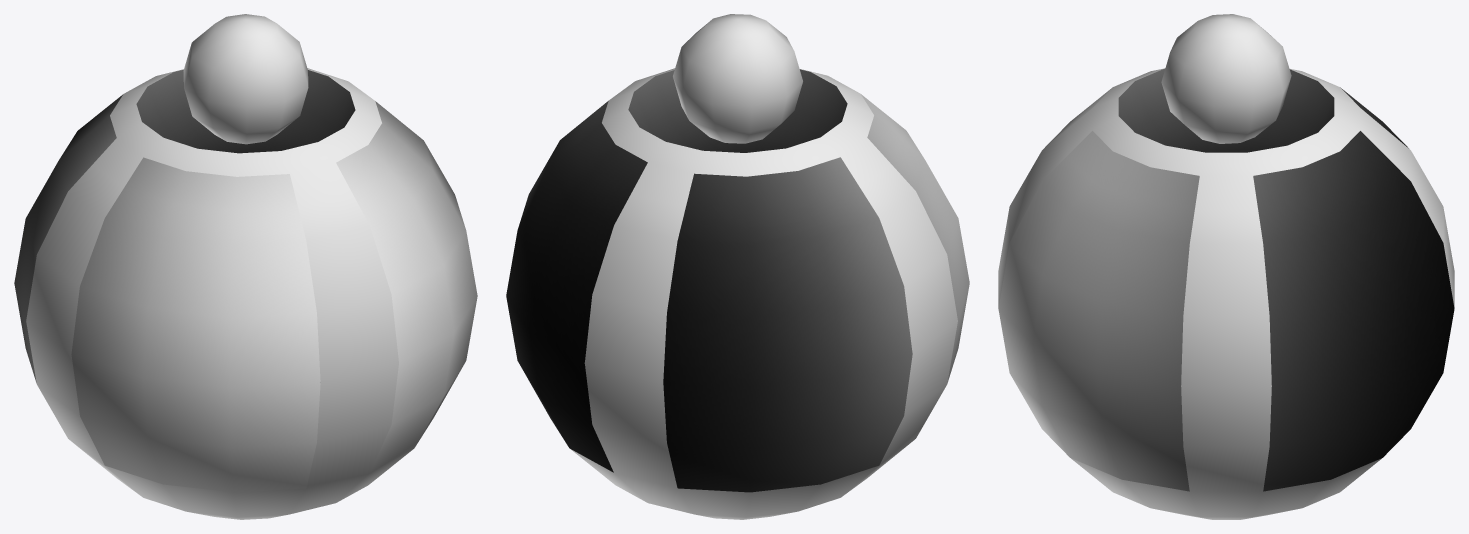
Rendered from Lazer_Base.fbx.
3 renders of one model, left to right at view 1: azimuth 30°, elevation 25°; view 2: azimuth 150°, elevation 25°; view 3: azimuth 270°, elevation 25°, orthographic.
Parts seen in each view (by area): view 1: Lazer_Base; view 2: Lazer_Base; view 3: Lazer_Base.
Part boxes in pixels (x1,y1,x2,y2): Lazer_Base: (14,14,477,519); Lazer_Base: (506,14,969,519); Lazer_Base: (998,14,1454,519).
Bounding box in the file's own units: 126 × 146 × 126.
2 materials, 1 textured.
